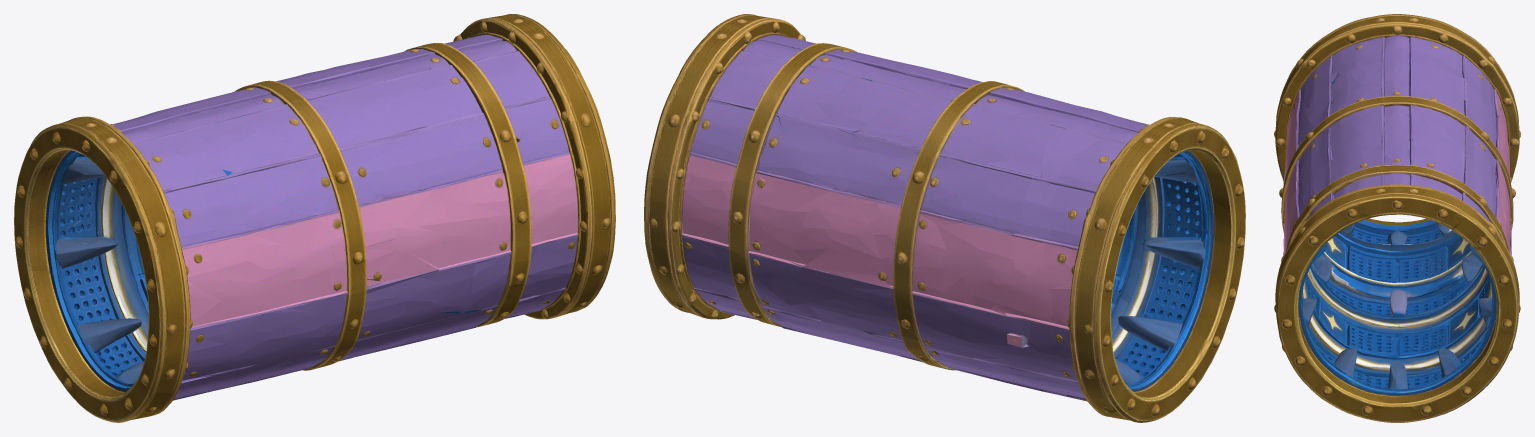
Rendered from drum.glb.
3 renders of one model, left to right at view 1: azimuth 30°, elevation 25°; view 2: azimuth 150°, elevation 25°; view 3: azimuth 270°, elevation 25°, orthographic. The views are drawn at different scales.
Visible parts, largest first — view 1: output_unwrapped; view 2: output_unwrapped; view 3: output_unwrapped.
Boxes of the visible parts, x1,y1,x2,y2 form: output_unwrapped: (14, 14, 615, 422); output_unwrapped: (644, 14, 1245, 422); output_unwrapped: (1274, 14, 1520, 422).
Bounding box in the file's own units: 1.9 × 1.09 × 1.07.
Materials: 1 (1 with a texture image).
